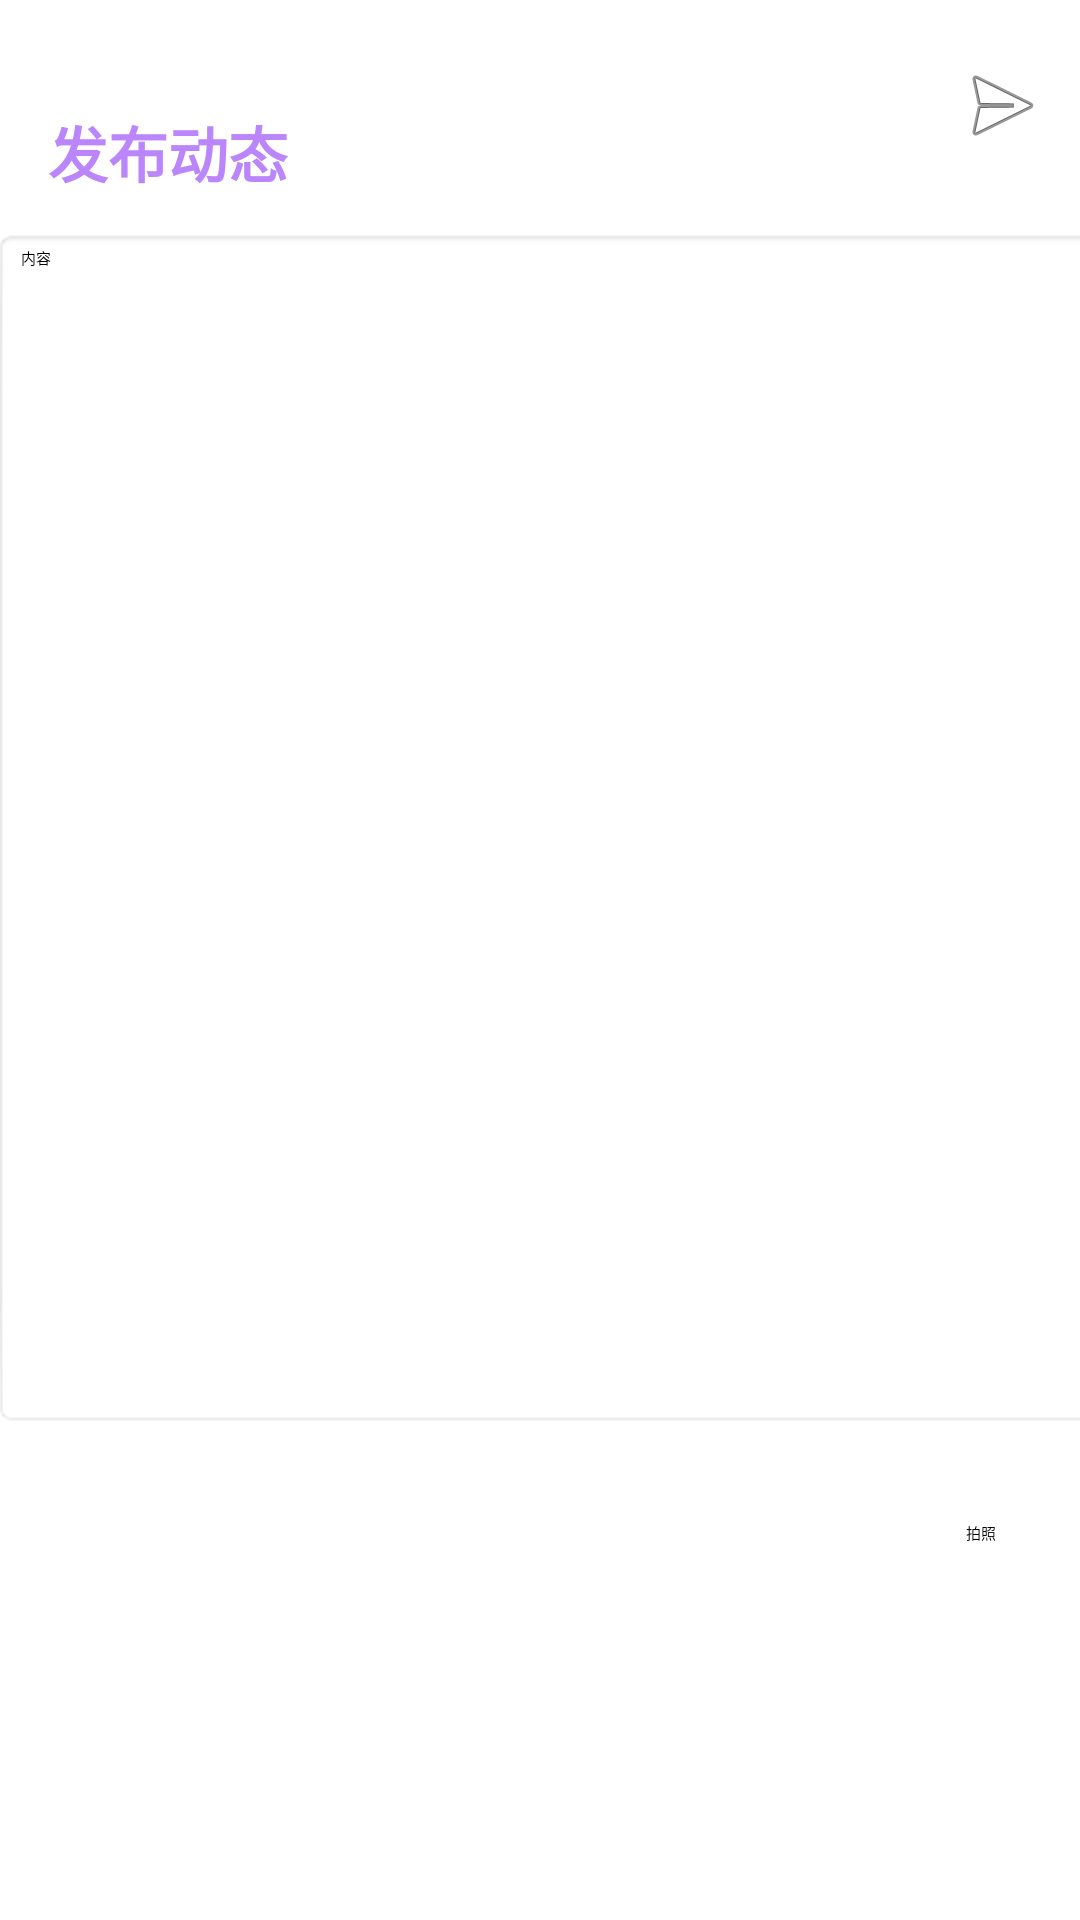

Icon click points for this 1080w x 1920h phone screenshot, format point (x, y):
send: point (1003, 105)
